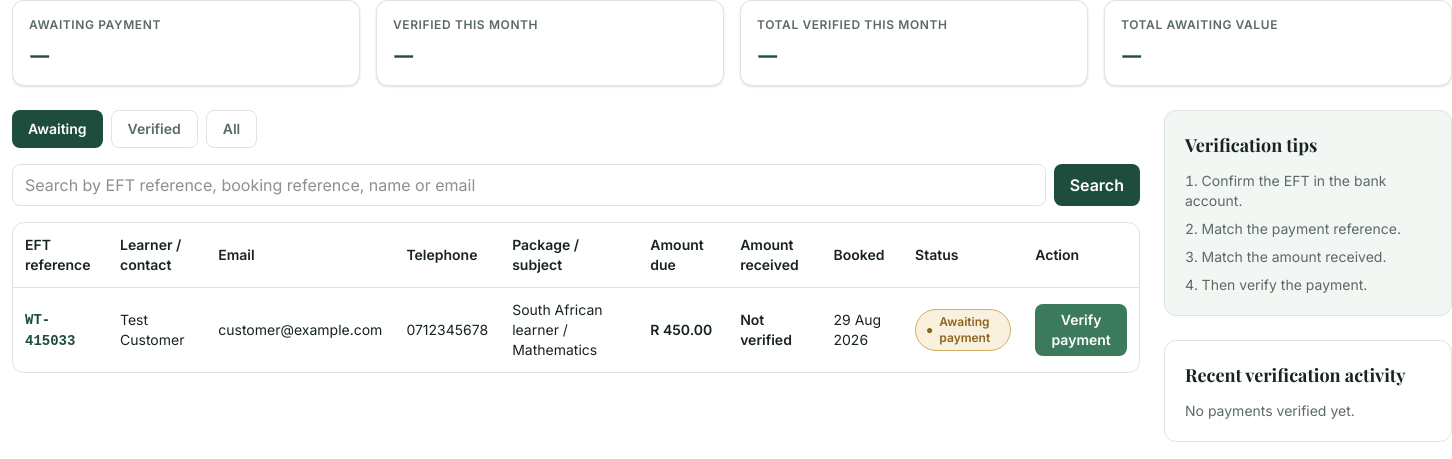
Test: AdminDashboard › switching to the Verified tab fetches and shows paid EFT bookings
Click the tab "Verified". click: (154, 129)
box: [111,110,198,148]
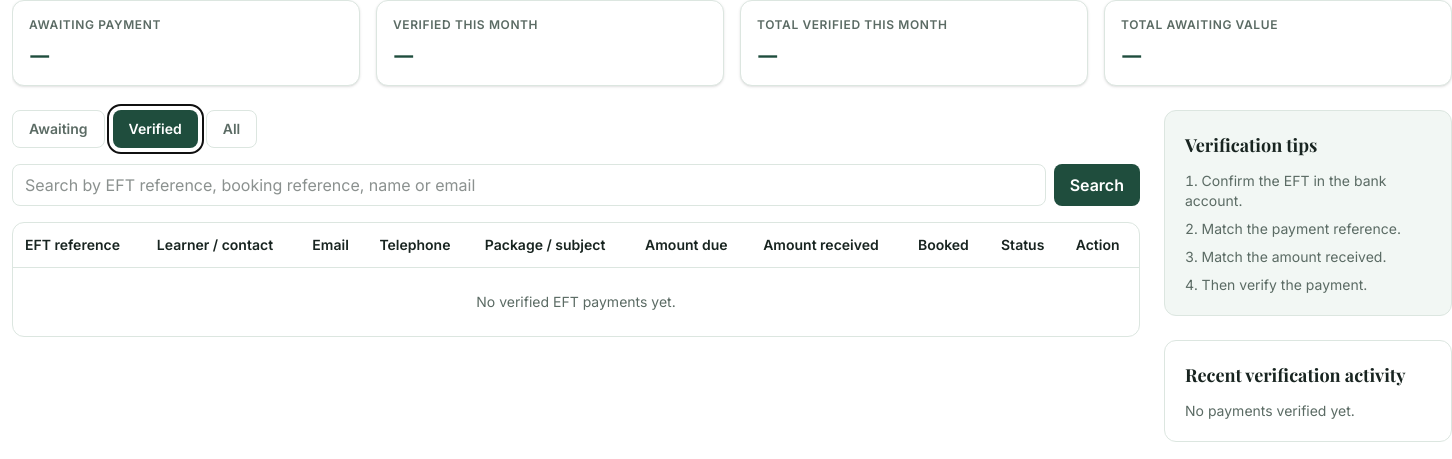
Now the text "No verified EFT payments yet." is shown, box [13,268,1139,336]
